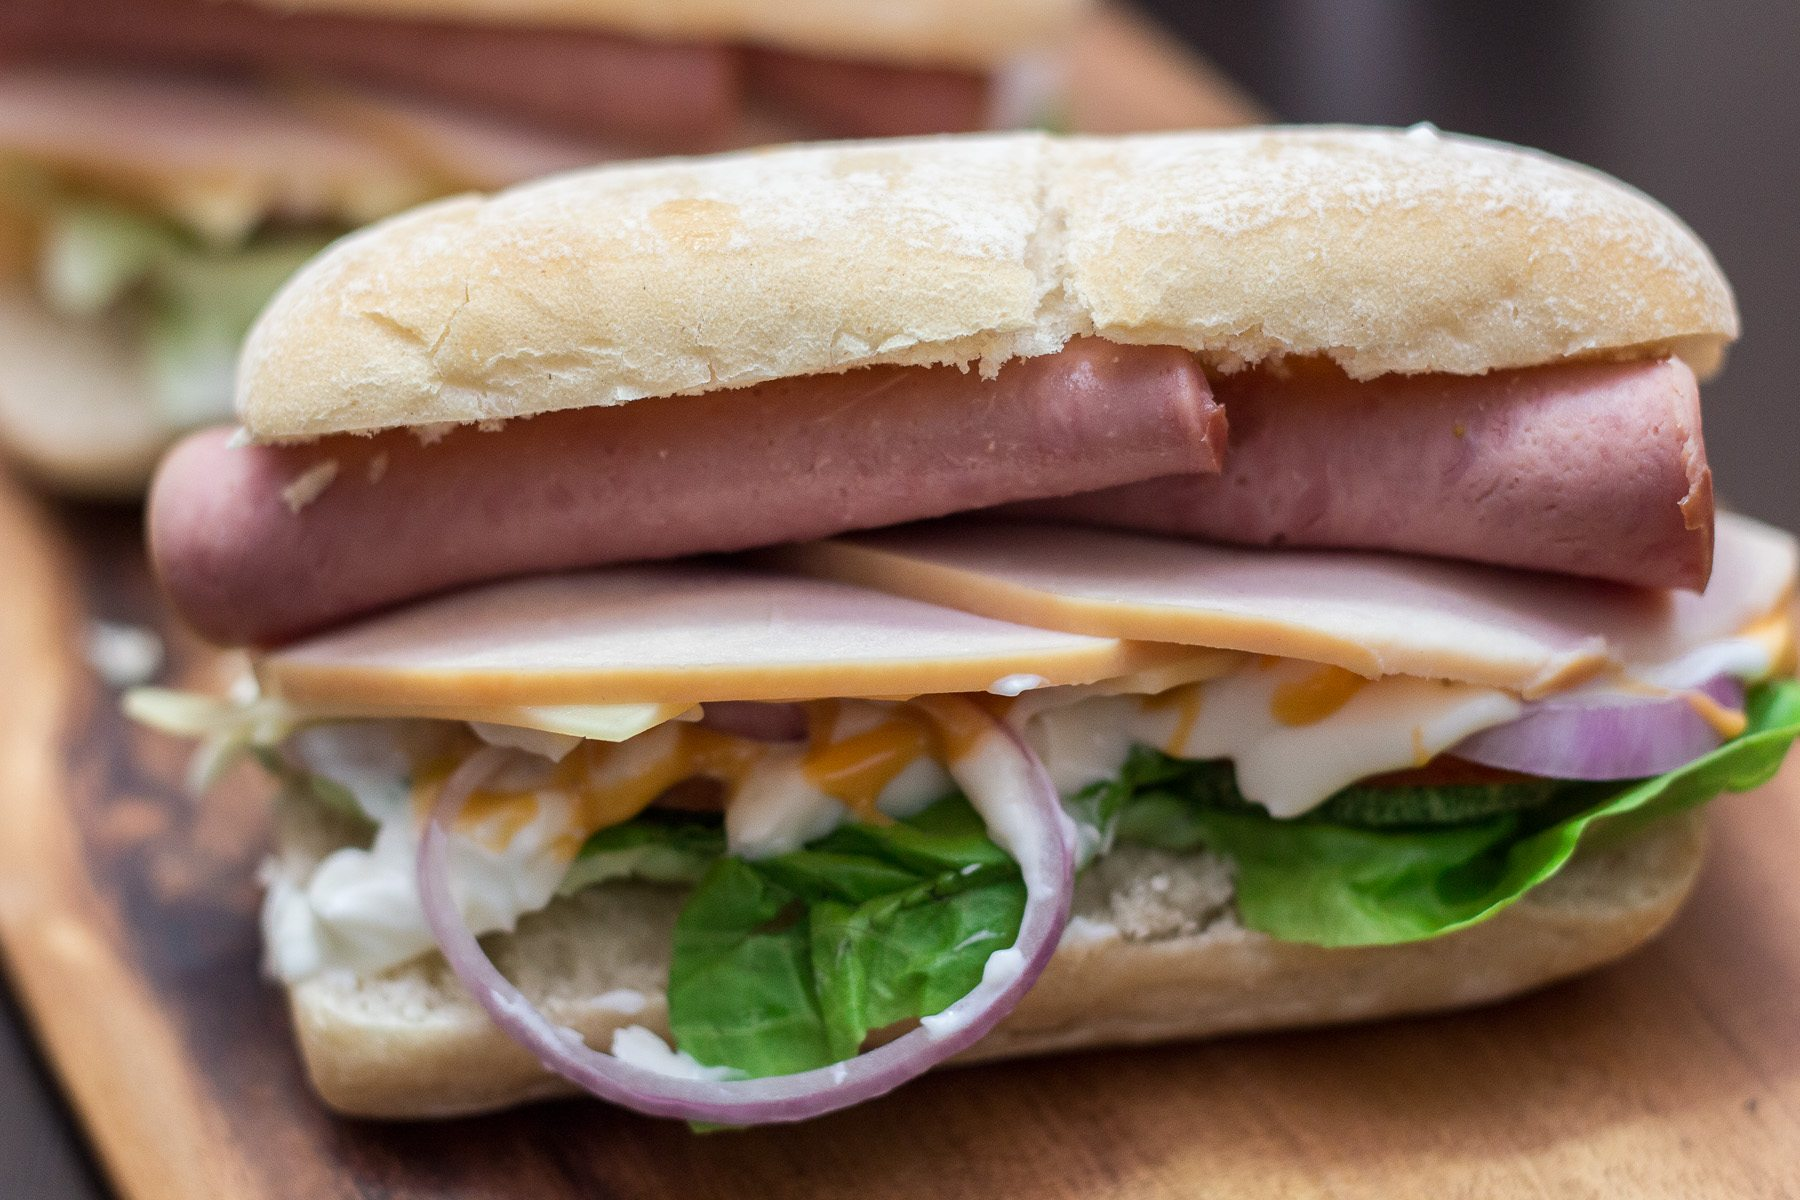sandwich: (5, 96, 1800, 1199)
